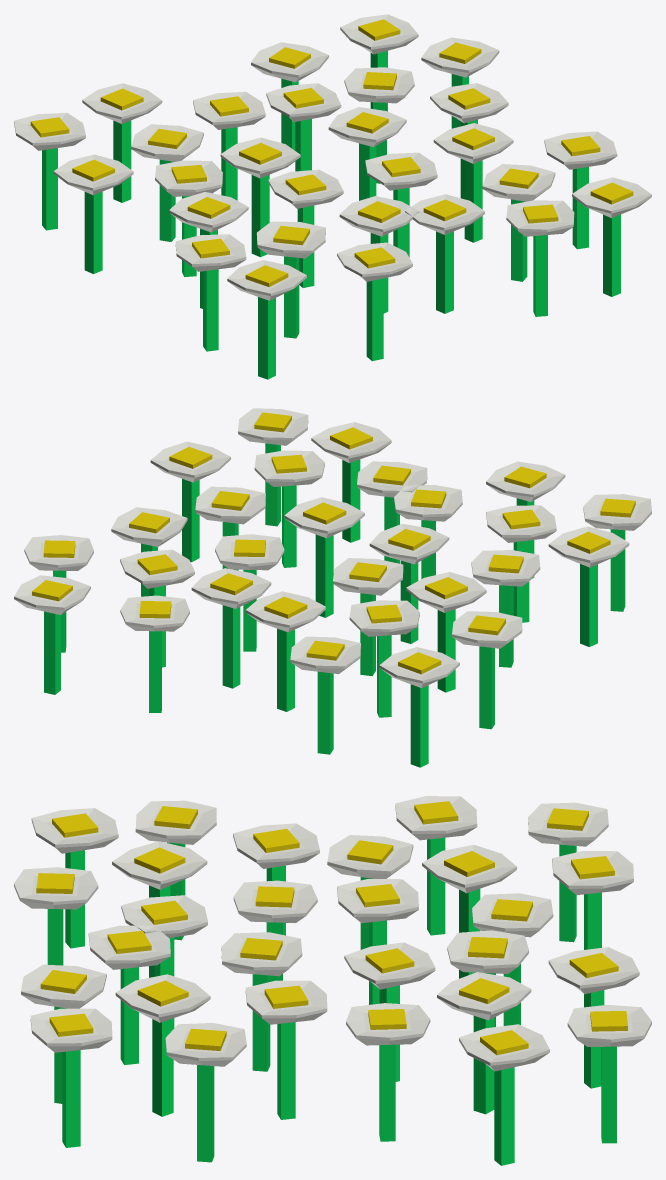
The model's file is DaisyFlowerPatch.fbx.
The picture shows the model from 3 angles, top to bottom: view 1: azimuth 30°, elevation 25°; view 2: azimuth 150°, elevation 25°; view 3: azimuth 270°, elevation 25°; orthographic projection. The views are drawn at different scales.
Parts seen in each view (by area): view 1: Cube.002; view 2: Cube.002; view 3: Cube.002.
Part boxes in pixels (x1,y1,x2,y2): Cube.002: (14, 14, 651, 379); Cube.002: (14, 408, 651, 767); Cube.002: (14, 796, 651, 1165).
Bounding box in the file's own units: 44.43 × 209 × 212.
